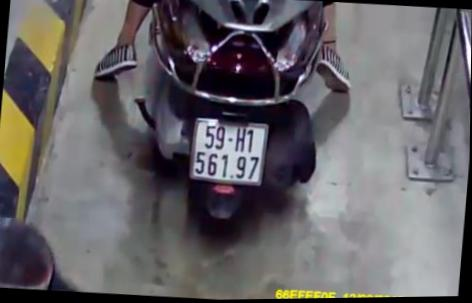LP: (185, 115, 273, 189)
